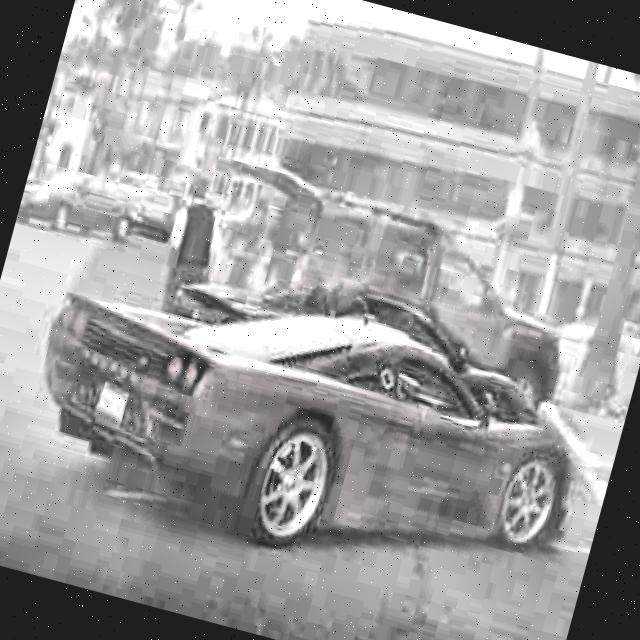license_plate: (82, 376, 140, 445)
